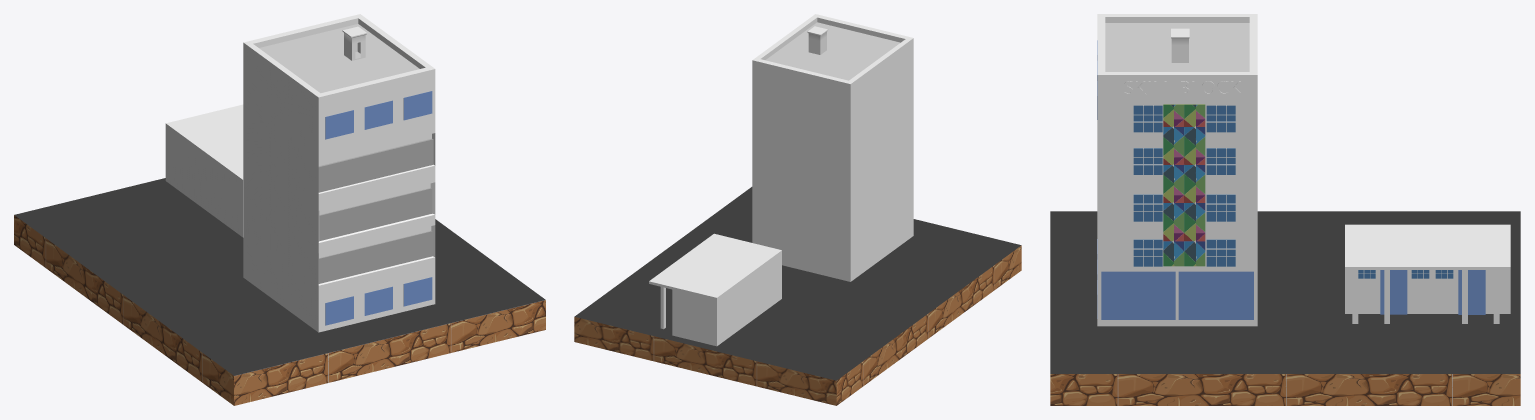
The model's file is Skill.glb.
3 views of the same model, side by side, from view 1: azimuth 30°, elevation 25°; view 2: azimuth 150°, elevation 25°; view 3: azimuth 270°, elevation 25° (orthographic). The views are drawn at different scales.
Parts seen in each view (by area): view 1: Britain_Block_wth_small_island:Skill__Block:polySurface7, polySurface70; view 2: Britain_Block_wth_small_island:Skill__Block:polySurface7, polySurface70; view 3: Britain_Block_wth_small_island:Skill__Block:polySurface7, polySurface70.
Part boxes in pixels (left/top/right/bottom): Britain_Block_wth_small_island:Skill__Block:polySurface7: left=165, top=14, right=435, bottom=332; polySurface70: left=14, top=178, right=545, bottom=405; Britain_Block_wth_small_island:Skill__Block:polySurface7: left=649, top=14, right=913, bottom=346; polySurface70: left=574, top=187, right=1021, bottom=405; Britain_Block_wth_small_island:Skill__Block:polySurface7: left=1097, top=14, right=1510, bottom=326; polySurface70: left=1050, top=211, right=1520, bottom=405.
Size of the model in its own units: 7.42 by 6.49 by 9.07.
11 materials, 2 textured.
